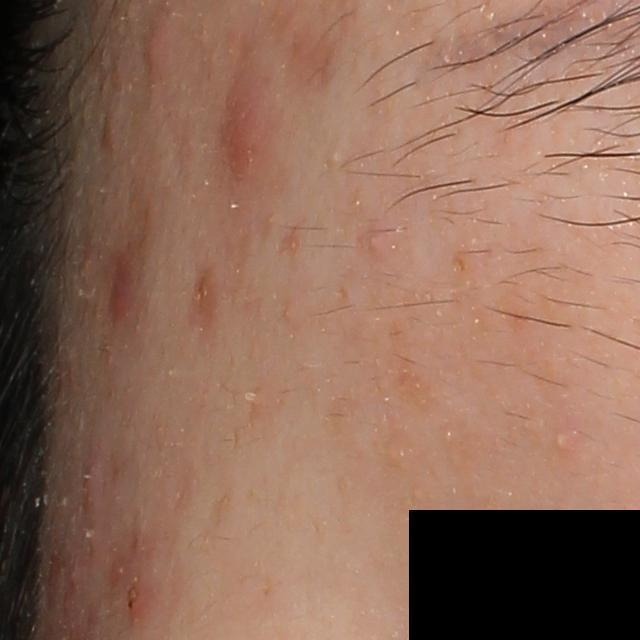papule: (222, 56, 276, 193), (142, 14, 172, 84), (108, 270, 135, 325), (363, 226, 391, 258), (100, 107, 120, 149)
